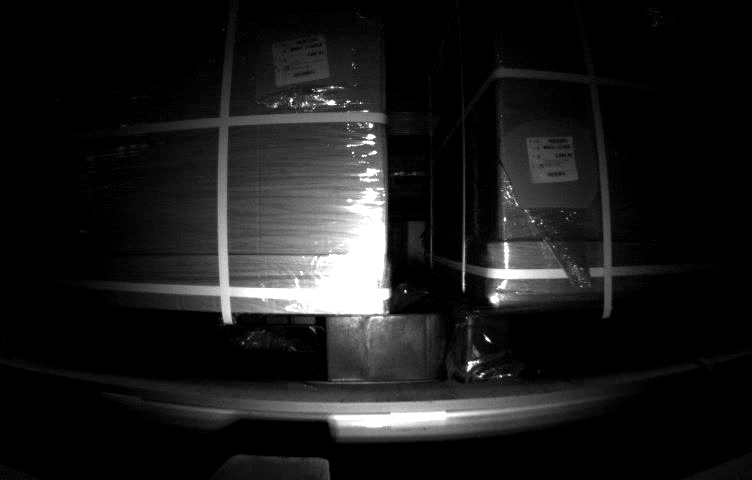True Barcode: (522, 135, 578, 182), (271, 39, 331, 78)
